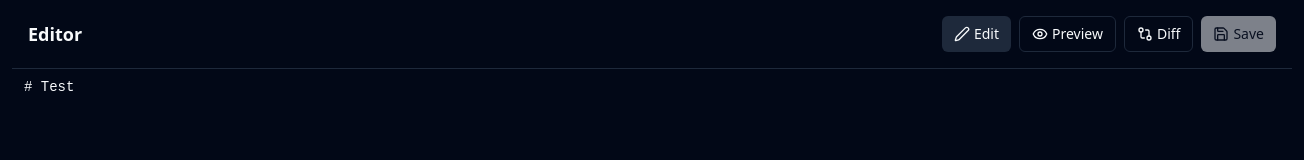
Scenario: EditorPanel › switches to preview mode
The width and height of the screenshot is (1304, 160).
Click the button "Preview": coordinates (1067, 34) [1019,16,1116,52]
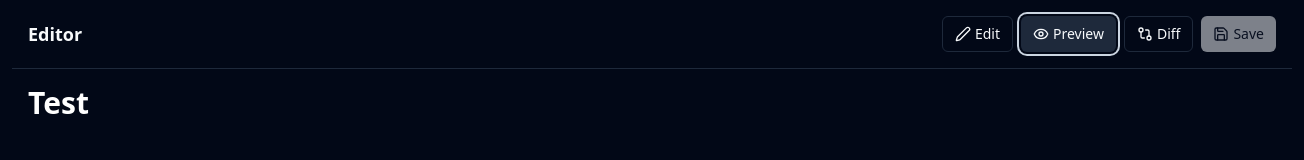
Now the element with test id "editor-preview" is shown, box [28,85,89,121]
